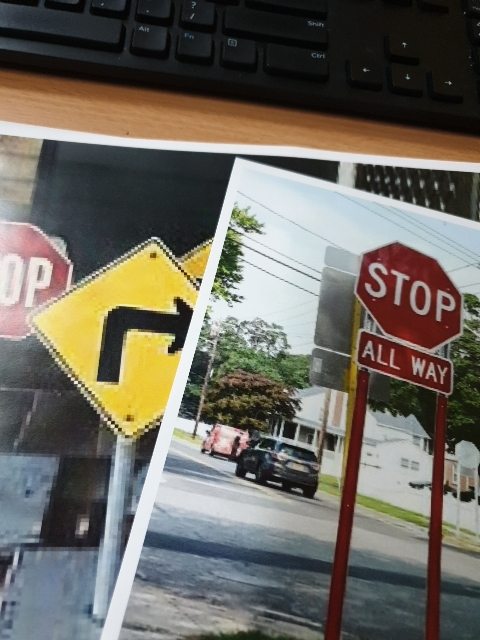right: (31, 227, 221, 431)
stop: (342, 241, 479, 351), (4, 198, 88, 351)
